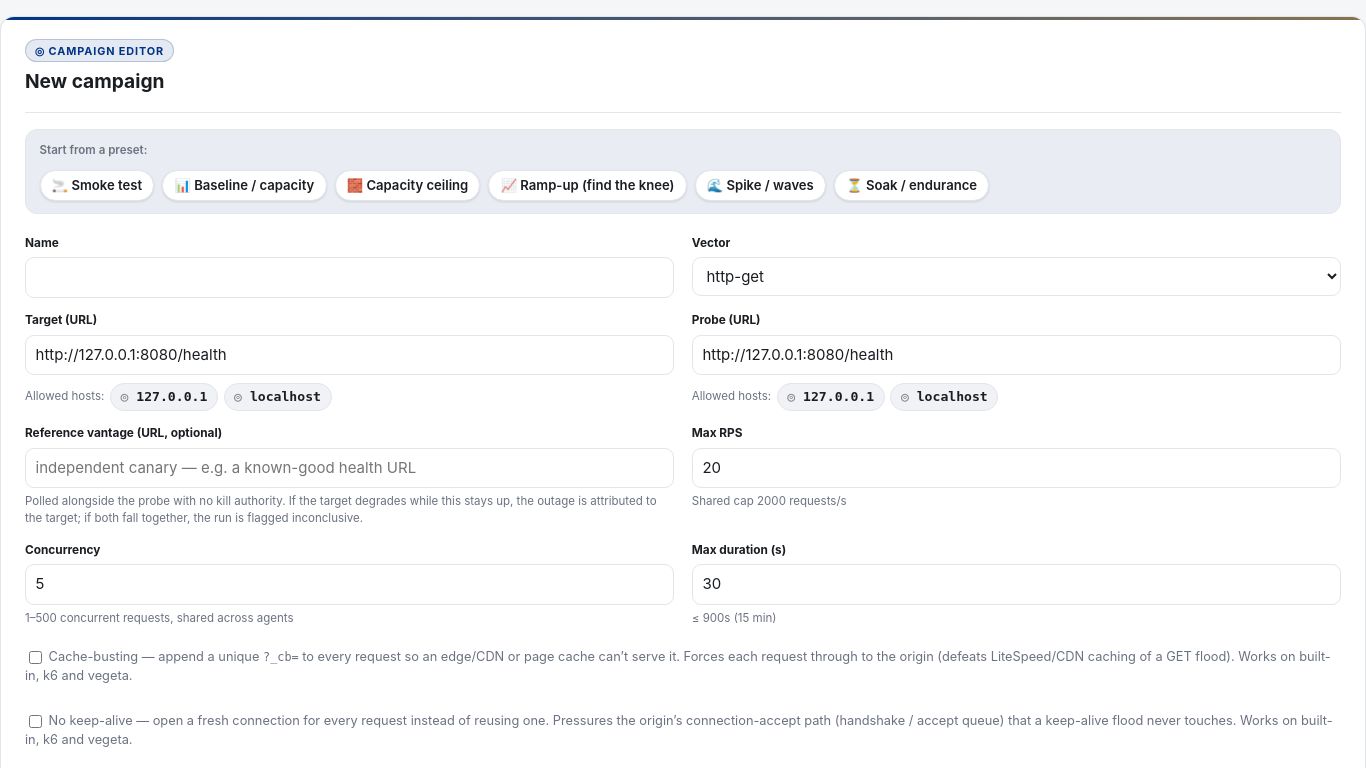
Test: NewCampaignForm › switching preset updates the Name field when it is still preset-owned
// Pick a preset → its name lands in the field.
Click the button "🚬 Smoke test" at (97, 185), box x1=40 y1=170 x2=154 y2=201
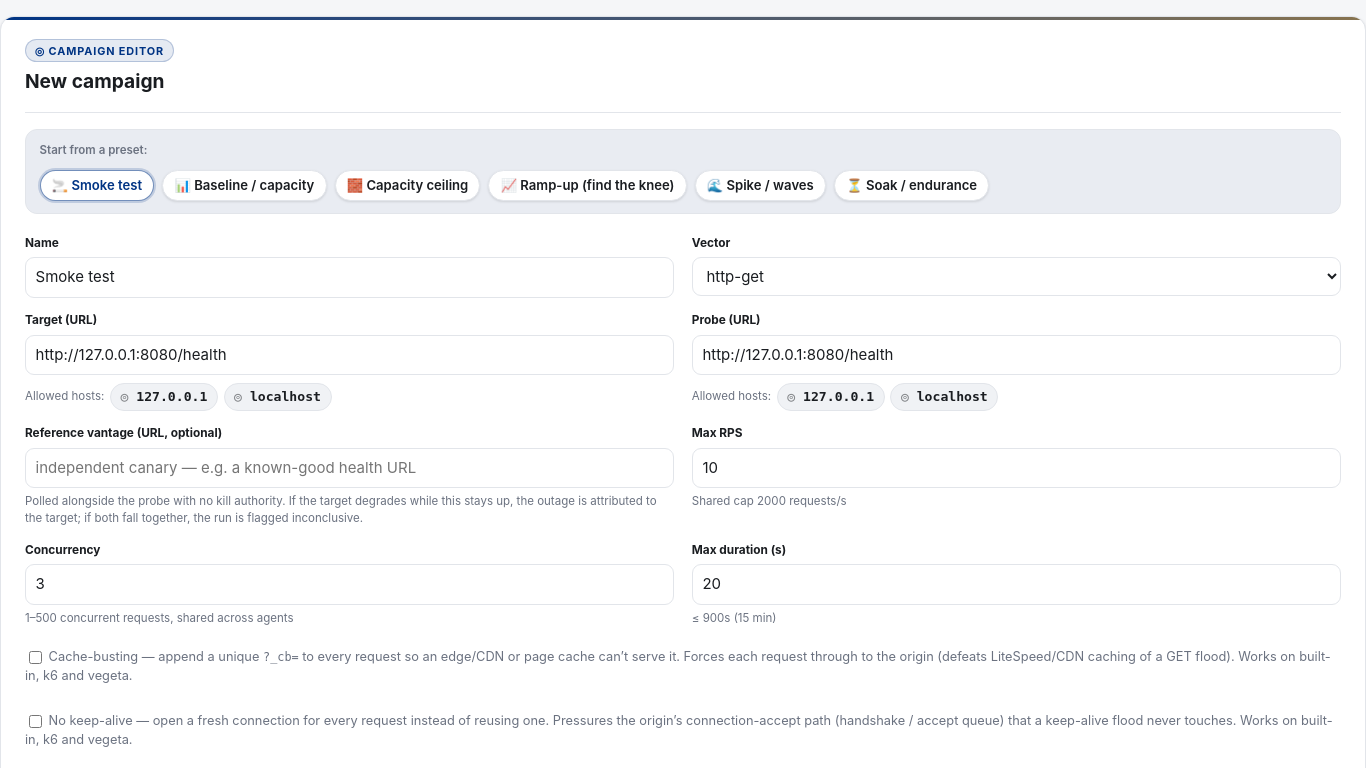
Expected: the field labelled "Name" holds "Smoke test", x1=25 y1=257 x2=674 y2=298
// Switch to another preset → the name follows, it does not stay stuck.
Click the button "🧱 Capacity ceiling" at (408, 185), box x1=334 y1=170 x2=480 y2=201
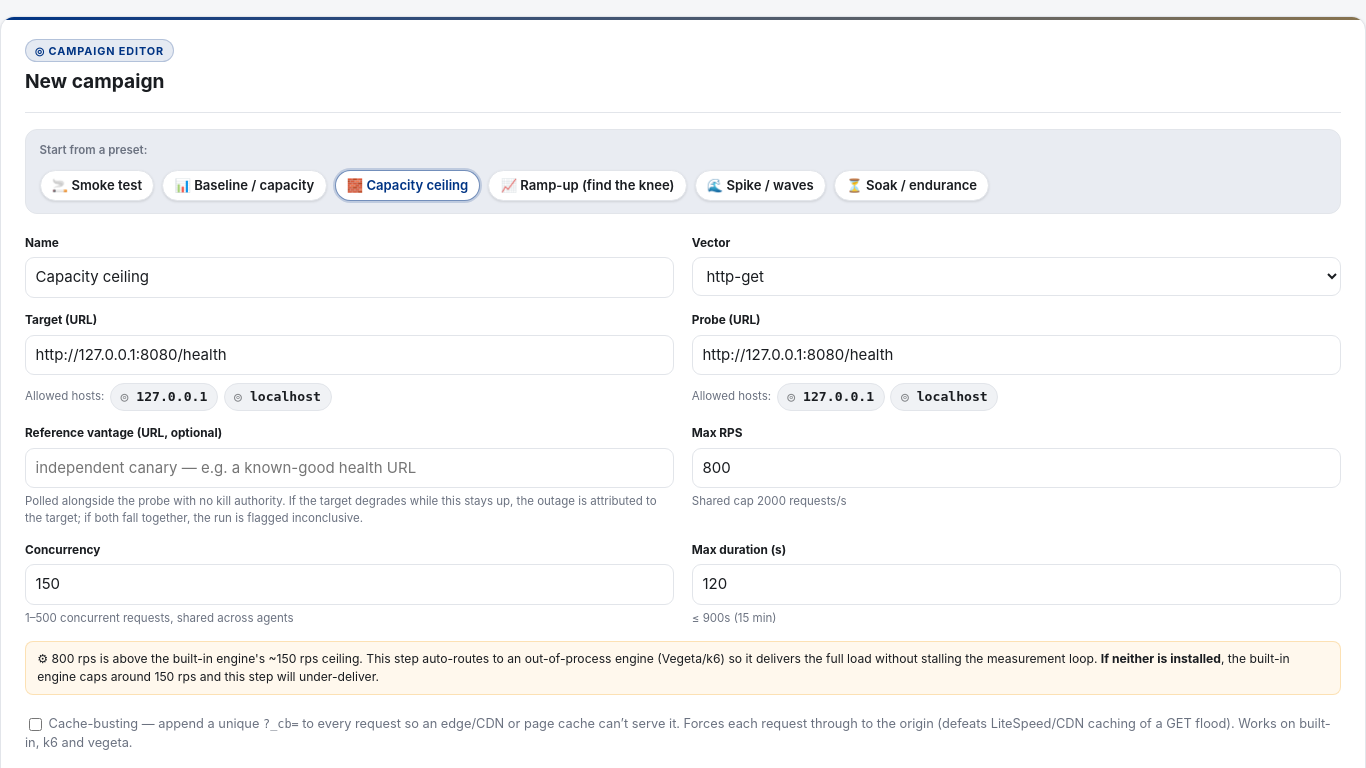
Expected: the field labelled "Name" holds "Capacity ceiling", x1=25 y1=257 x2=674 y2=298
